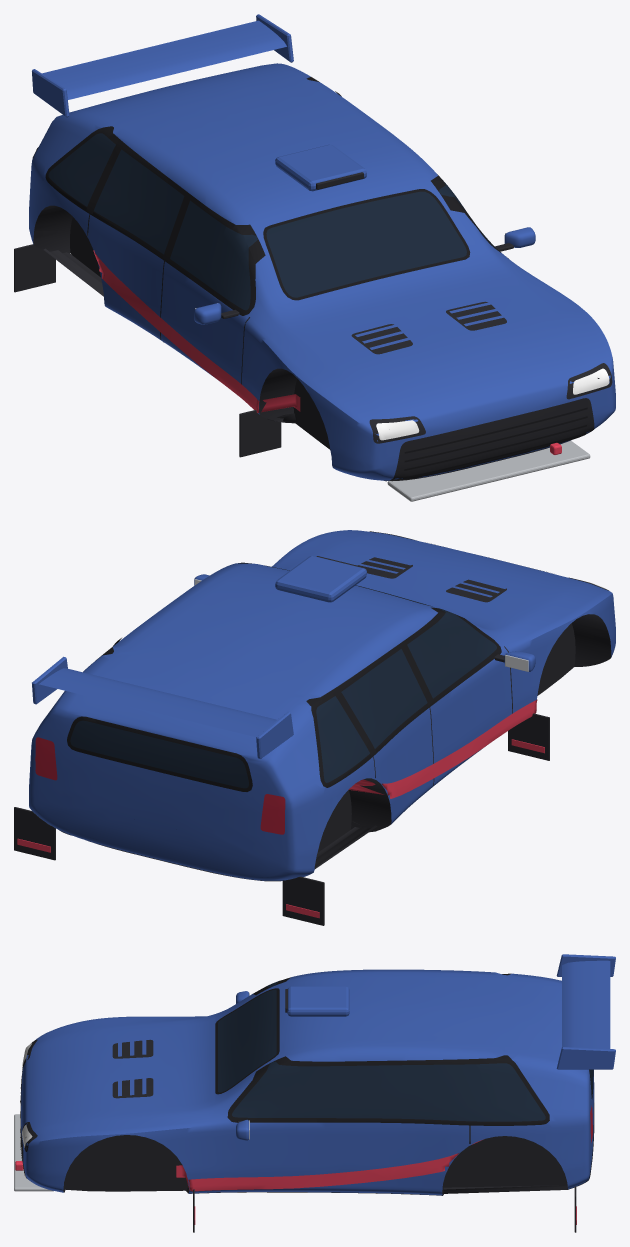
Rendered from scrambler.glb.
The picture shows the model from 3 angles, top to bottom: view 1: azimuth 30°, elevation 25°; view 2: azimuth 150°, elevation 25°; view 3: azimuth 270°, elevation 25°; orthographic projection. The views are drawn at different scales.
Visible parts, largest first — view 1: body, wing; view 2: body, wing; view 3: body, wing.
Part boxes in pixels (x1,y1,x2,y2): body: [14, 63, 615, 501]; wing: [32, 14, 293, 117]; body: [14, 530, 615, 925]; wing: [32, 656, 293, 758]; body: [14, 969, 594, 1232]; wing: [556, 954, 615, 1069].
Bounding box in the file's own units: 2.44 × 1.4 × 4.45.
